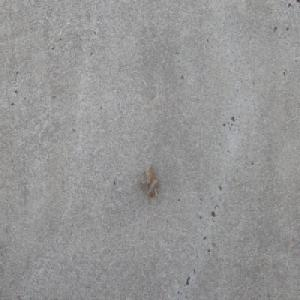Rock: (136, 161, 158, 199)
